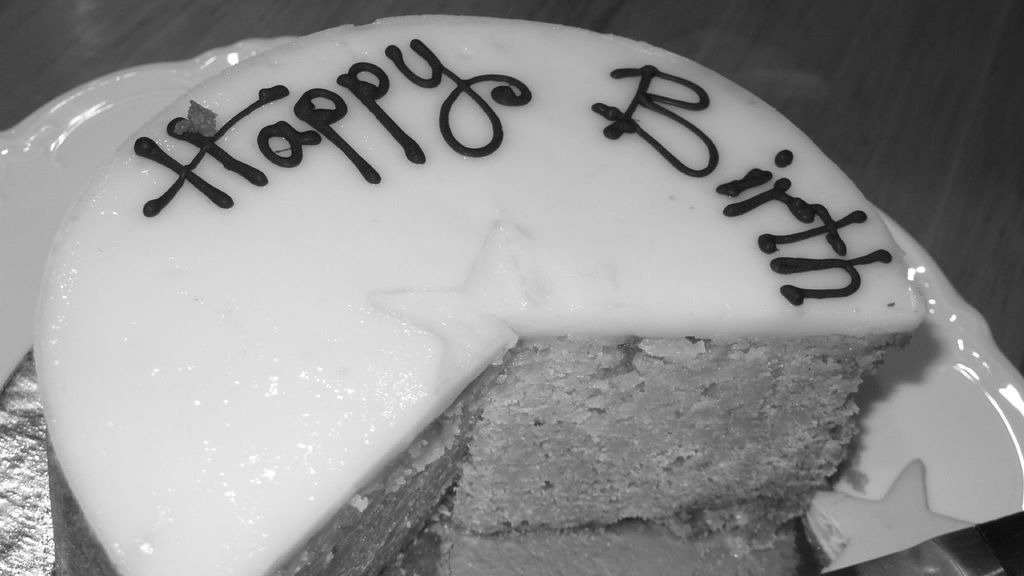cake: (33, 8, 924, 575)
